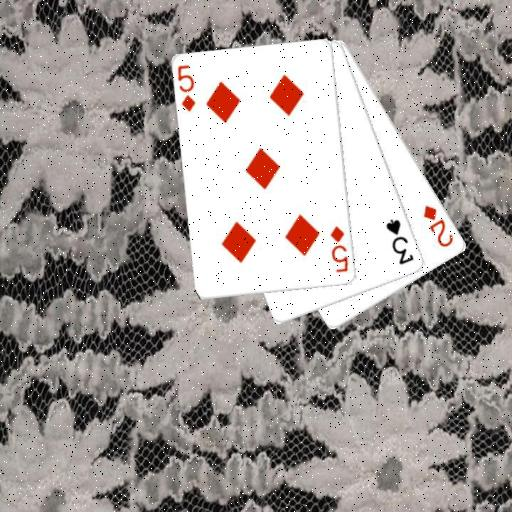2D: (420, 202, 456, 249)
3S: (383, 217, 417, 267)
5D: (327, 224, 351, 274), (175, 62, 197, 114)
